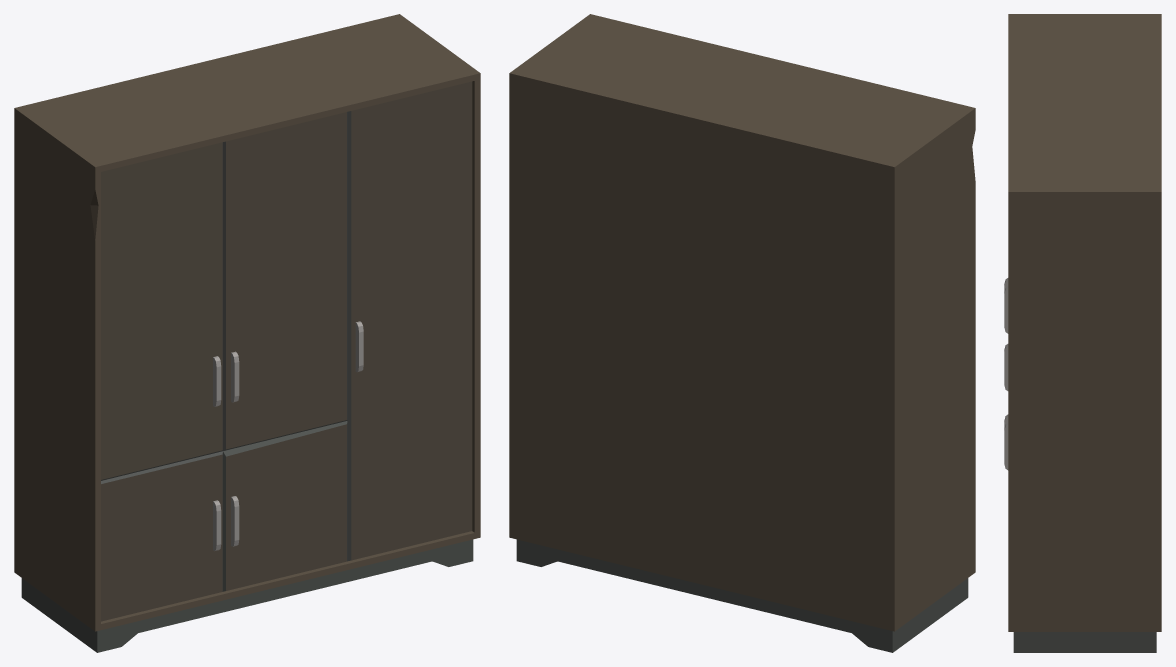
The model's file is SM_Props_Interior_House_Room_Wardbrobe_03.fbx.
3 views of the same model, side by side, from view 1: azimuth 30°, elevation 25°; view 2: azimuth 150°, elevation 25°; view 3: azimuth 270°, elevation 25° (orthographic). The views are drawn at different scales.
Visible parts, largest first — view 1: SM_Props_Interior_House_Room_Wardbrobe_03; view 2: SM_Props_Interior_House_Room_Wardbrobe_03; view 3: SM_Props_Interior_House_Room_Wardbrobe_03.
Part boxes in pixels (x1,y1,x2,y2): SM_Props_Interior_House_Room_Wardbrobe_03: (14,14,480,652); SM_Props_Interior_House_Room_Wardbrobe_03: (509,14,975,652); SM_Props_Interior_House_Room_Wardbrobe_03: (1004,14,1161,652).
Size of the model in its own units: 165 by 200 by 61.65.
